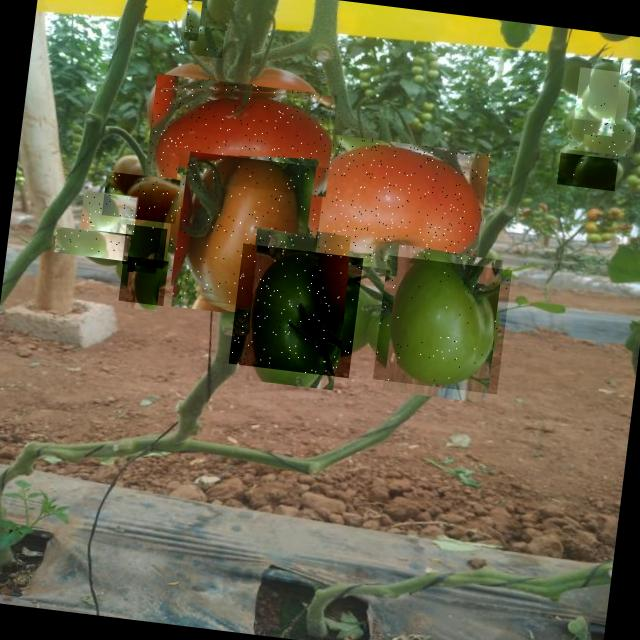Ripe Tomato: (298, 132, 490, 280), (144, 72, 337, 196)
Unripe Tomato: (162, 150, 326, 314), (372, 255, 512, 394), (228, 243, 363, 378), (101, 170, 180, 223), (574, 66, 632, 125), (53, 226, 131, 261), (569, 117, 636, 157), (80, 190, 138, 234), (118, 256, 168, 306), (556, 152, 617, 191), (121, 224, 167, 268), (178, 24, 224, 58), (178, 4, 207, 34)
